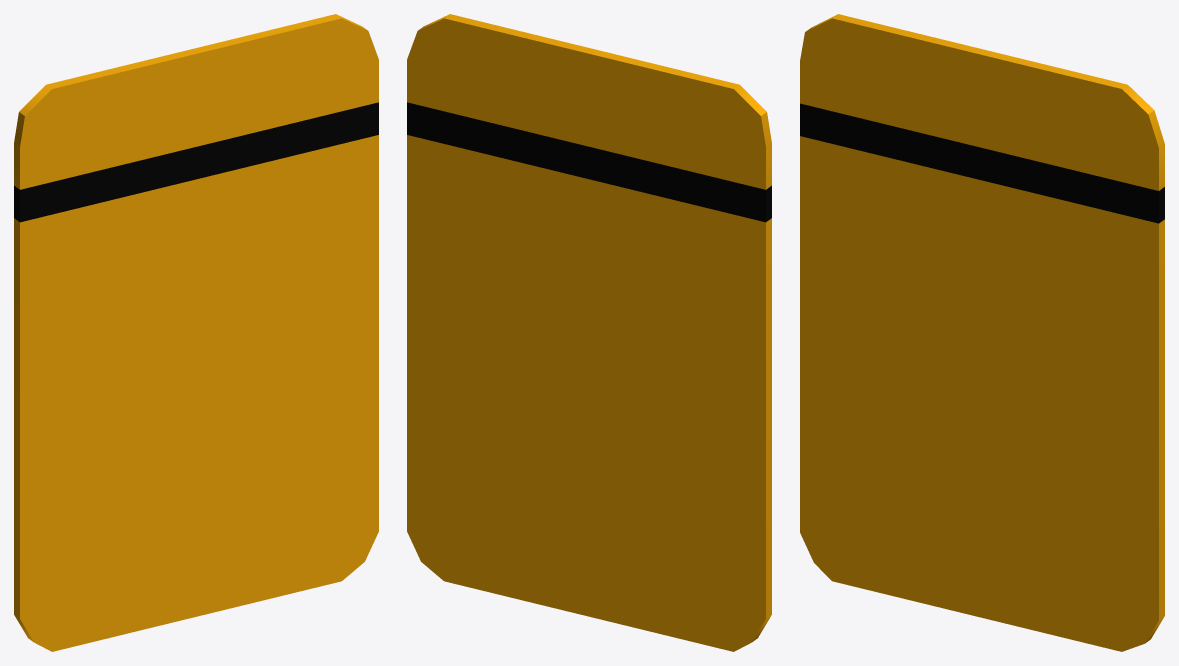
The model's file is tarjeta.fbx.
3 renders of one model, left to right at view 1: azimuth 30°, elevation 25°; view 2: azimuth 150°, elevation 25°; view 3: azimuth 330°, elevation 25°, orthographic.
Parts seen in each view (by area): view 1: tarjeta; view 2: tarjeta; view 3: tarjeta.
Part boxes in pixels (bbox=[...]): tarjeta: bbox=[14, 14, 378, 651]; tarjeta: bbox=[407, 14, 771, 651]; tarjeta: bbox=[800, 14, 1164, 651].
Bounding box in the file's own units: 1.54 × 2.3 × 0.0444.
